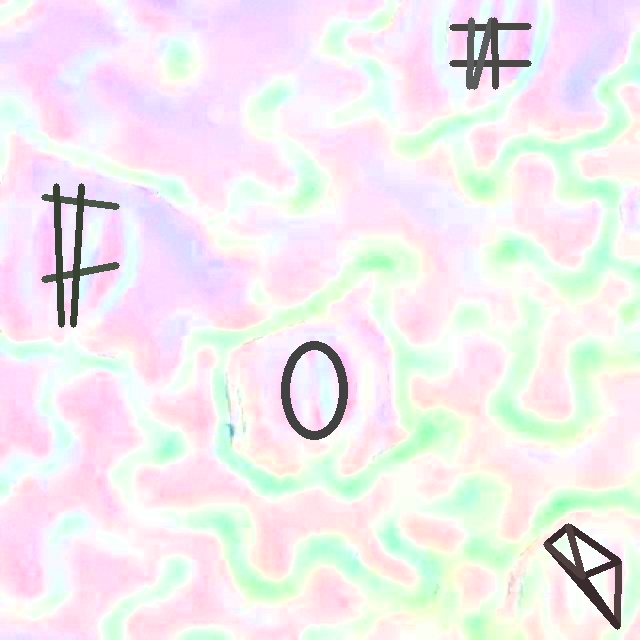close: (543, 523, 620, 628)
open: (41, 184, 118, 326), (280, 341, 348, 440), (450, 18, 531, 89)
